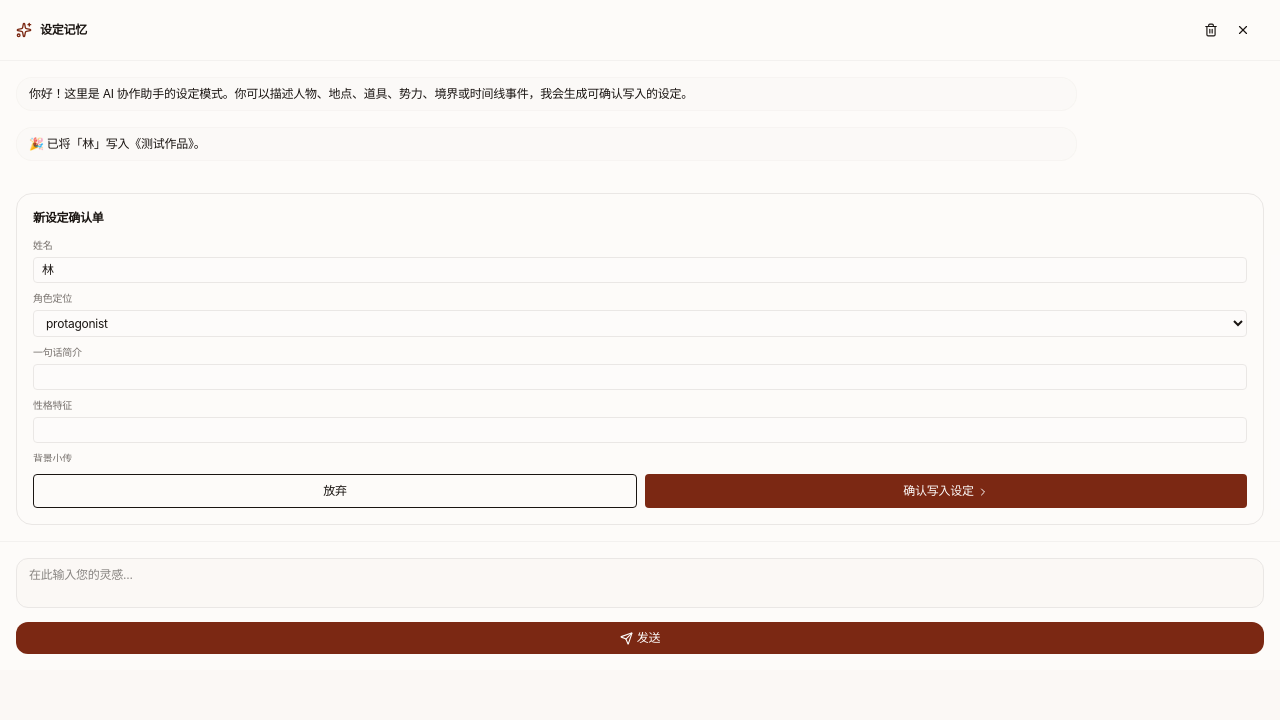
作品助手设定安全边界 › generation 非法时不写入并提示
Click the button "确认写入设定".
click(946, 491)  # box 645,474 -> 1247,508
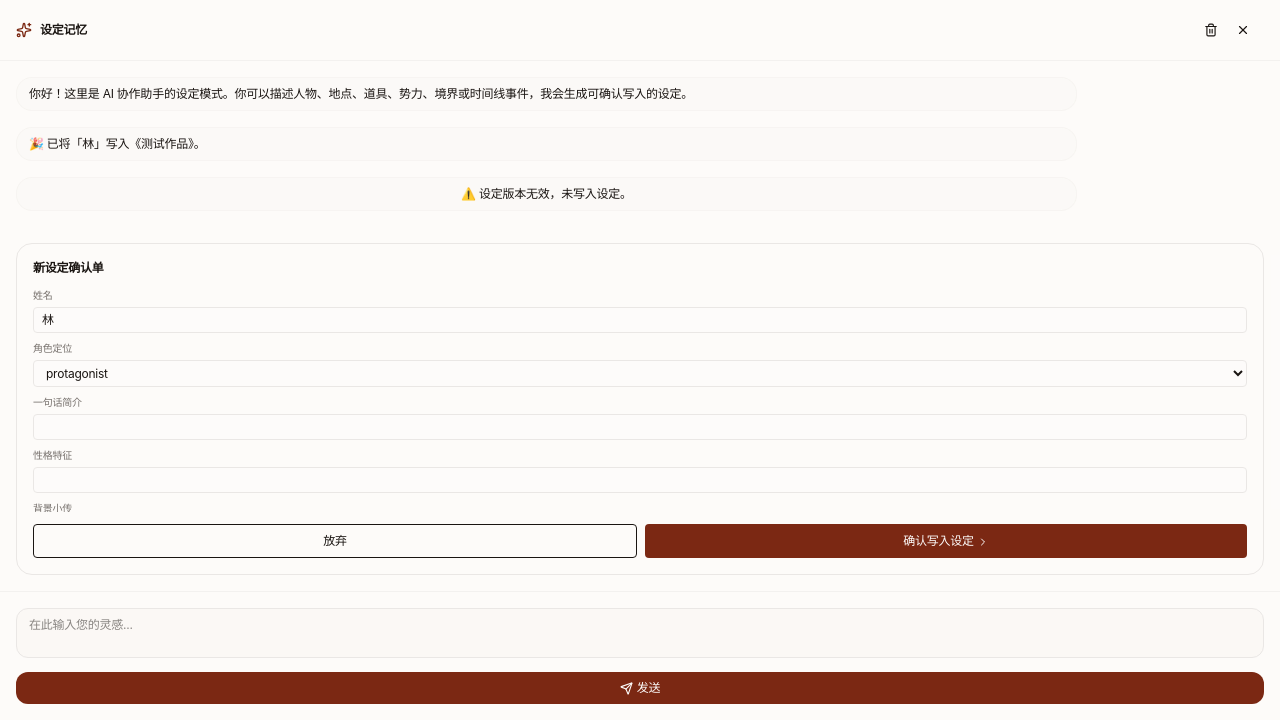
Result: the text "⚠️ 设定版本无效，未写入设定。" is shown at 16,177 -> 1077,211
